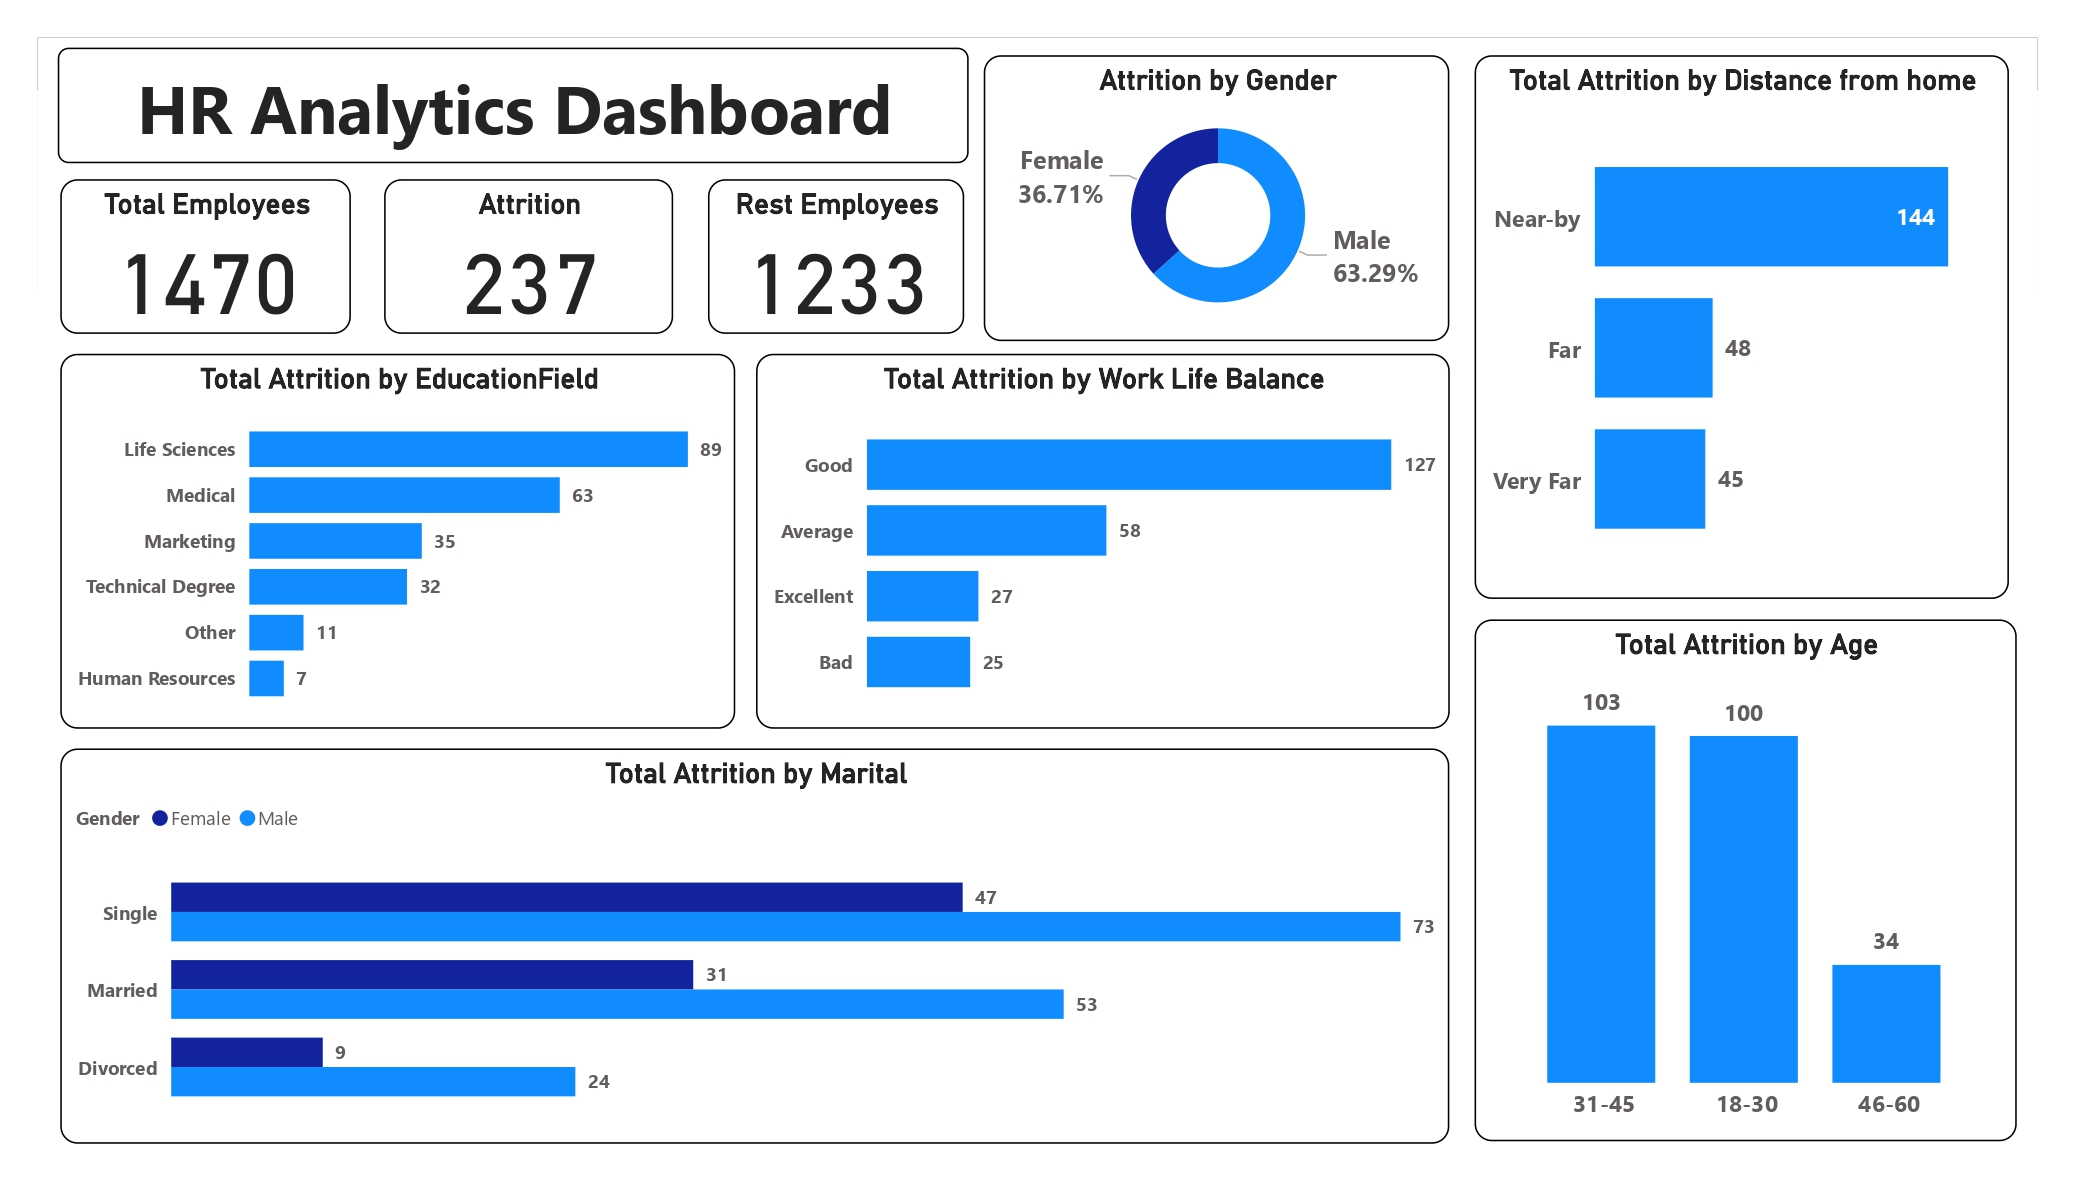

This screenshot's page, from the dashboard's own definition file:
{"tool":"powerbi","page":{"name":"Dashboard","canvas":[1280,720],"ordinal":0},"visuals":[{"type":"card","title":"Attrition","fields":{"Values":["Sum(HR-Employee-Attrition.Attrition1)"]},"box":[221.8,90.7,184.6,98.8],"z":0},{"type":"clusteredBarChart","title":"Total Attrition by EducationField","fields":{"Category":["HR-Employee-Attrition.EducationField"],"Y":["Sum(HR-Employee-Attrition.Attrition1)"]},"box":[14.6,202.4,432.3,239.6],"z":1000},{"type":"card","title":"Total Employees","fields":{"Values":["CountNonNull(HR-Employee-Attrition.Attrition2)"]},"box":[14.6,90.7,186.2,98.8],"z":2000},{"type":"card","title":"Rest Employees","fields":{"Values":["Sum(HR-Employee-Attrition.Attrition2)"]},"box":[429.1,90.7,163.5,98.8],"z":3000},{"type":"clusteredBarChart","title":"Total Attrition by Work Life Balance","fields":{"Category":["HR-Employee-Attrition.WorkLifeBalance_updated"],"Y":["Sum(HR-Employee-Attrition.Attrition1)"]},"box":[459.9,202.4,443.7,239.6],"z":4000},{"type":"clusteredBarChart","title":"Total Attrition by Distance from home","fields":{"Category":["HR-Employee-Attrition.DistanceFromHome1"],"Y":["Sum(HR-Employee-Attrition.Attrition1)"]},"box":[919.7,11.3,341.7,348.1],"z":5000},{"type":"columnChart","title":"Total Attrition by Age","fields":{"Category":["HR-Employee-Attrition.Age Group"],"Y":["Sum(HR-Employee-Attrition.Attrition1)"]},"box":[919.7,372.4,346.5,333.6],"z":6000},{"type":"clusteredBarChart","title":"Total Attrition by Marital","fields":{"Category":["HR-Employee-Attrition.MaritalStatus"],"Y":["Sum(HR-Employee-Attrition.Attrition1)"],"Series":["HR-Employee-Attrition.Gender"]},"box":[14.6,455,889,252.6],"z":7000},{"type":"donutChart","title":"Attrition by Gender","fields":{"Category":["HR-Employee-Attrition.Gender"],"Y":["Sum(HR-Employee-Attrition.Attrition1)"]},"box":[605.6,11.3,297.9,183],"z":8000},{"type":"textbox","box":[13,6.5,582.9,74.5],"z":9000}]}

Visuals, with their boxes in screenshot pixels (x1, y1, x2, y2):
"Attrition" card: 384,179,672,334
"Total Attrition by EducationField" clusteredBarChart: 60,354,736,728
"Total Employees" card: 60,179,351,334
"Rest Employees" card: 708,179,963,334
"Total Attrition by Work Life Balance" clusteredBarChart: 756,354,1449,728
"Total Attrition by Distance from home" clusteredBarChart: 1475,55,2008,599
"Total Attrition by Age" columnChart: 1475,619,2016,1141
"Total Attrition by Marital" clusteredBarChart: 60,748,1449,1143
"Attrition by Gender" donutChart: 984,55,1449,341
textbox: 58,48,969,164
